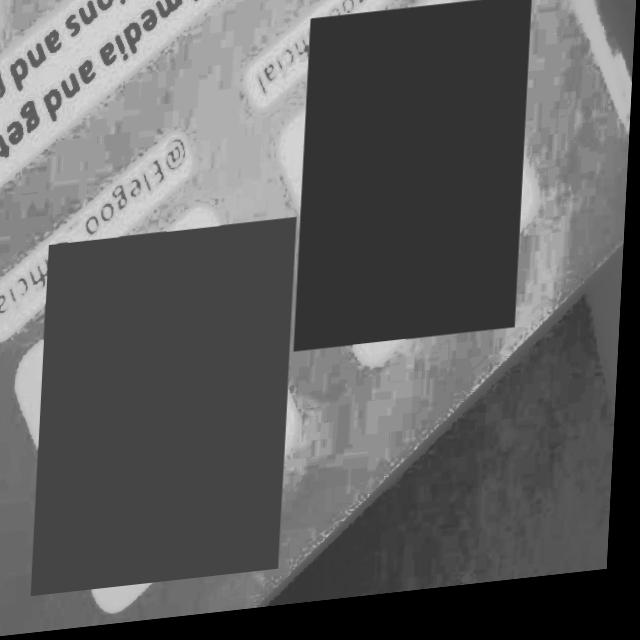qr_code: (37, 225, 300, 598), (298, 7, 533, 359)
